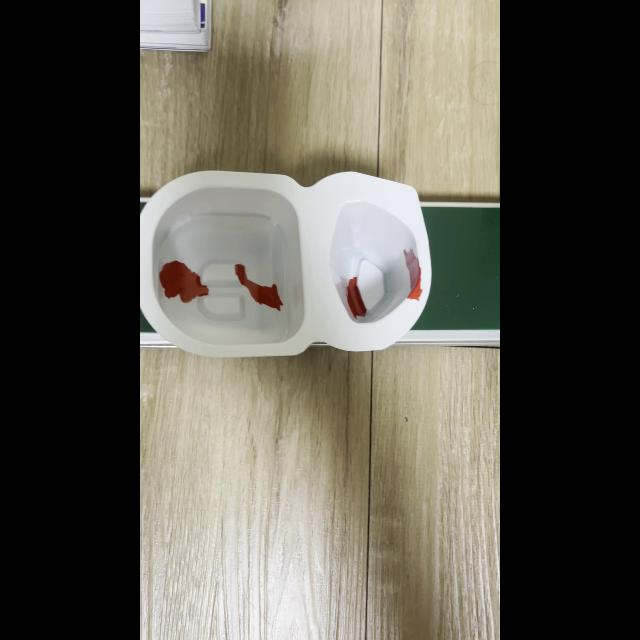dirty: (140, 197, 428, 351)
